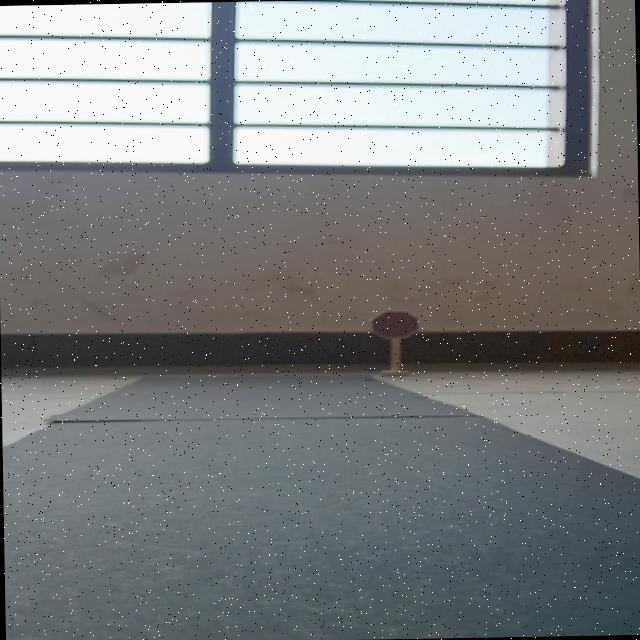Stop: (368, 308, 420, 339)
